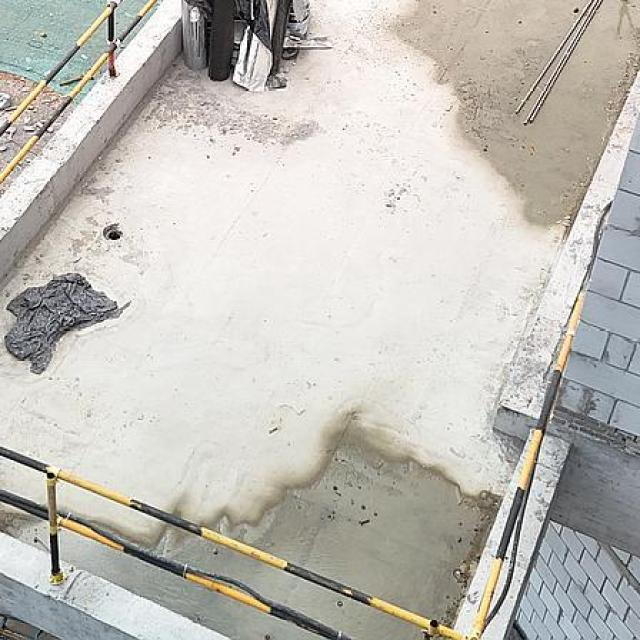edge_guardrail: (0, 291, 584, 639), (0, 0, 157, 186)
